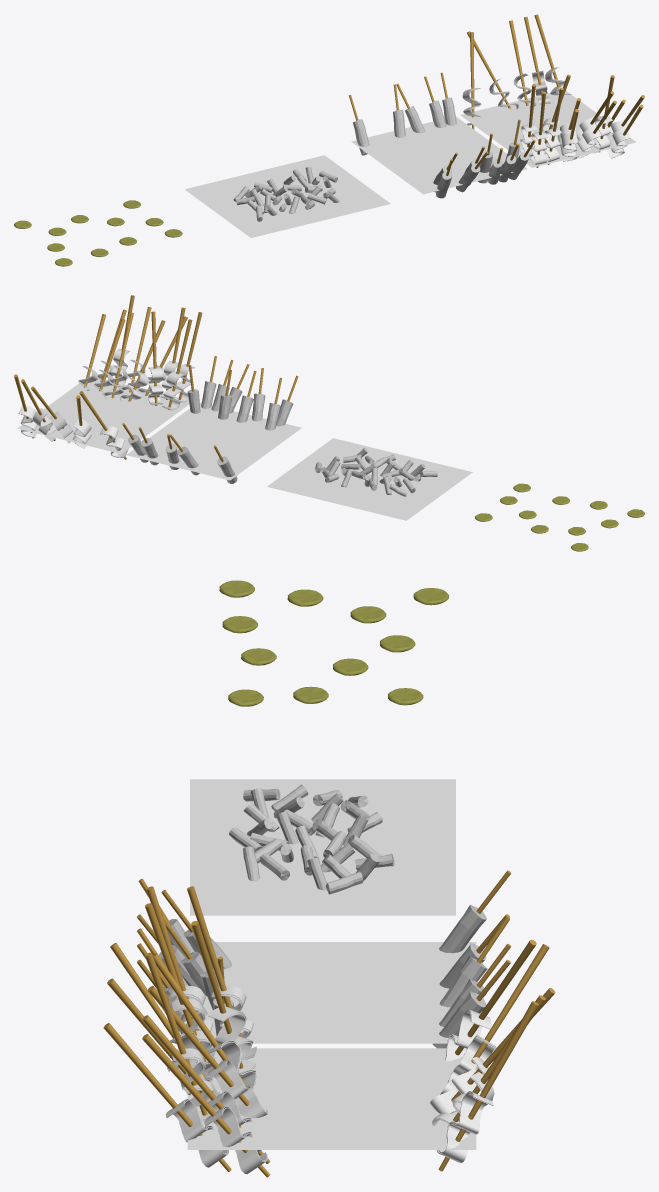
File: snack.fbx
3 views of the same model, one above another, from view 1: azimuth 30°, elevation 25°; view 2: azimuth 150°, elevation 25°; view 3: azimuth 270°, elevation 25° (orthographic). The views are drawn at different scales.
Parts seen in each view (by area): view 1: soup (×3), main022, main004, main021, main001; view 2: soup (×3), main027, main043, main028, main039; view 3: soup (×3), main038, main029, main024, main004, main027, stcik015, main020, main043, stcik004, stcik014, main040 (+10 smaller).
Part boxes in pixels (box(x1,y1,x2,y2)): soup (×3): box(185, 91, 636, 237); main022: box(530, 131, 547, 164); main004: box(607, 128, 631, 158); main021: box(544, 128, 561, 161); main001: box(560, 133, 577, 161); soup (×3): box(18, 376, 472, 520); main027: box(148, 367, 163, 405); main043: box(100, 425, 128, 457); main028: box(162, 371, 185, 410); main039: box(33, 408, 56, 441); soup (×3): box(187, 779, 476, 1149); main038: box(437, 1091, 493, 1162); main029: box(204, 1106, 267, 1174); main024: box(207, 1059, 267, 1118); main004: box(165, 1098, 228, 1167); main027: box(208, 1006, 256, 1072); stcik015: box(438, 1001, 538, 1171); main020: box(439, 904, 486, 953); main043: box(445, 1009, 491, 1062); stcik004: box(103, 1023, 231, 1171); stcik014: box(142, 1034, 270, 1177); main040: box(430, 1057, 488, 1113).
Bounding box in the file's own units: 380 × 131 × 64.16.
